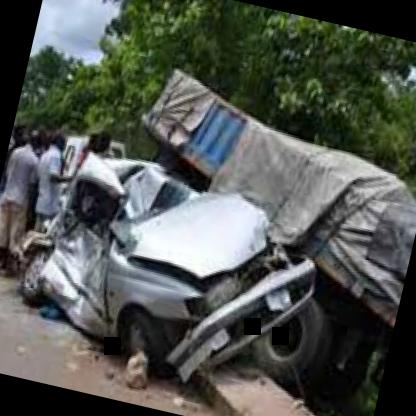accident: (28, 135, 362, 414)
